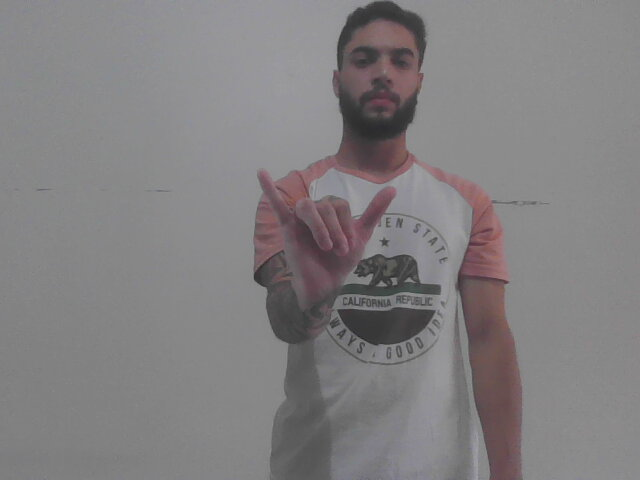y: (252, 164, 402, 310)
